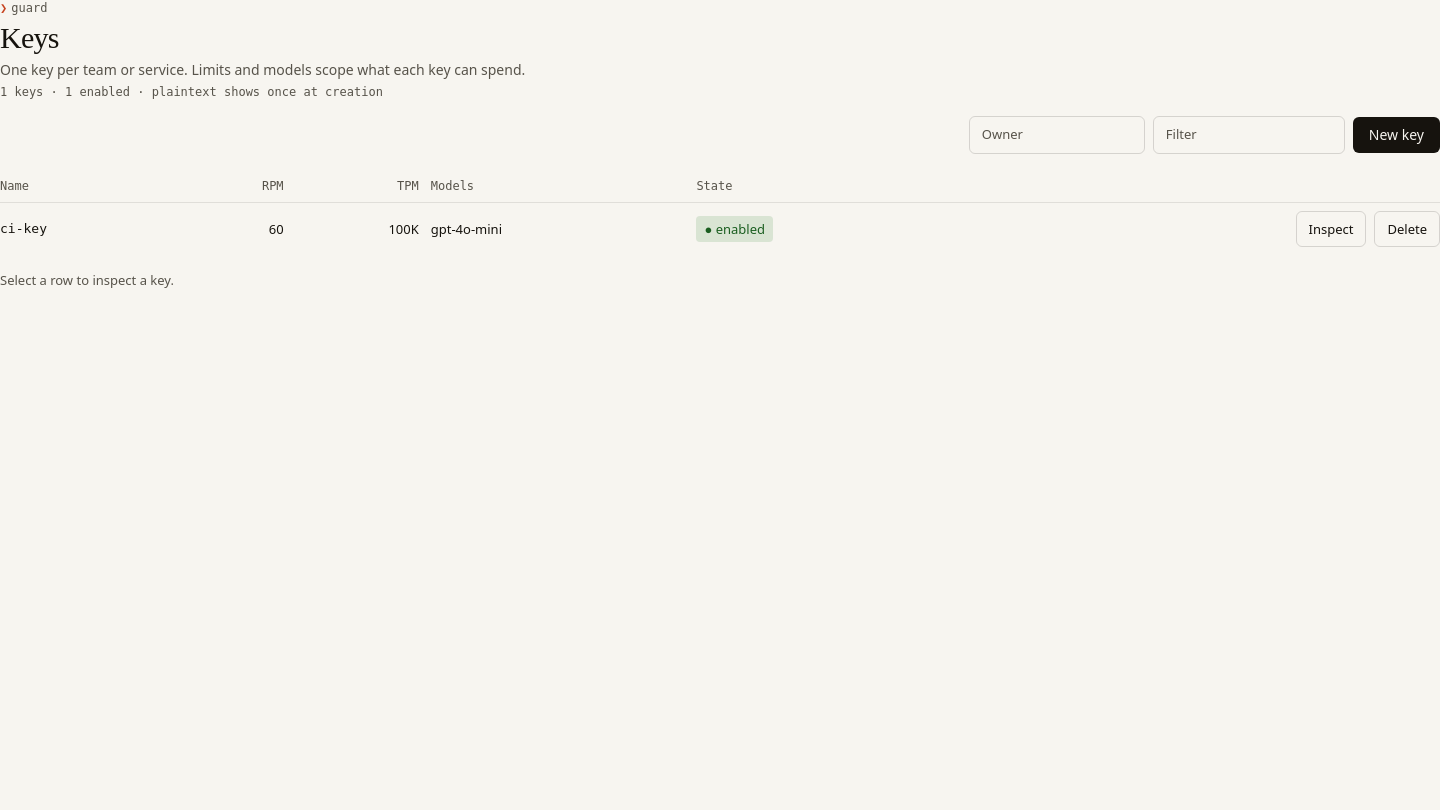
KeysPage › revokes terminally with no undo path
This screenshot has width=1440, height=810.
Click the button with aria-label "inspect key ci-key".
click(1331, 229)  # box [1296,210,1366,247]
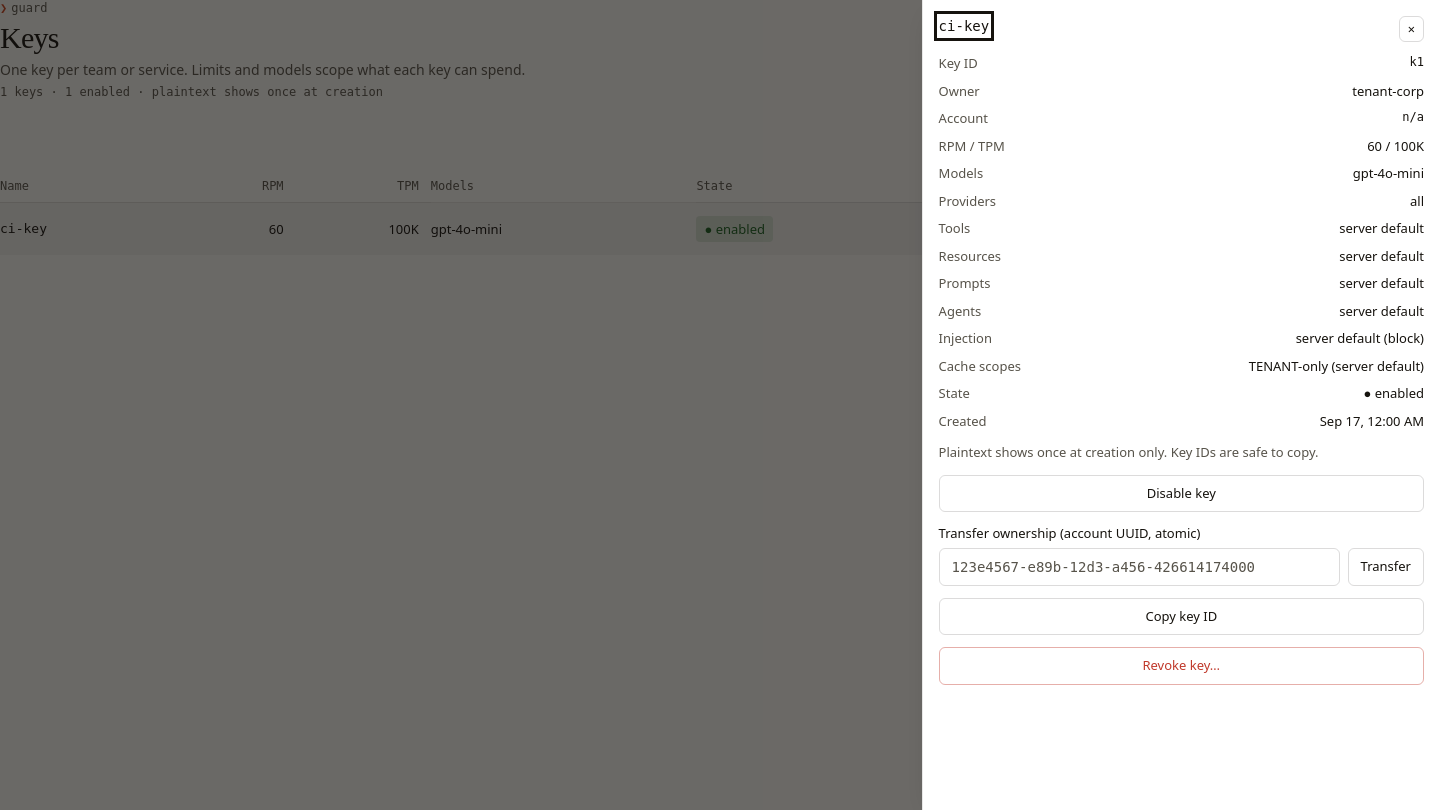
Click the button "Revoke key…".
click(1181, 666)  # box [939,647,1424,684]
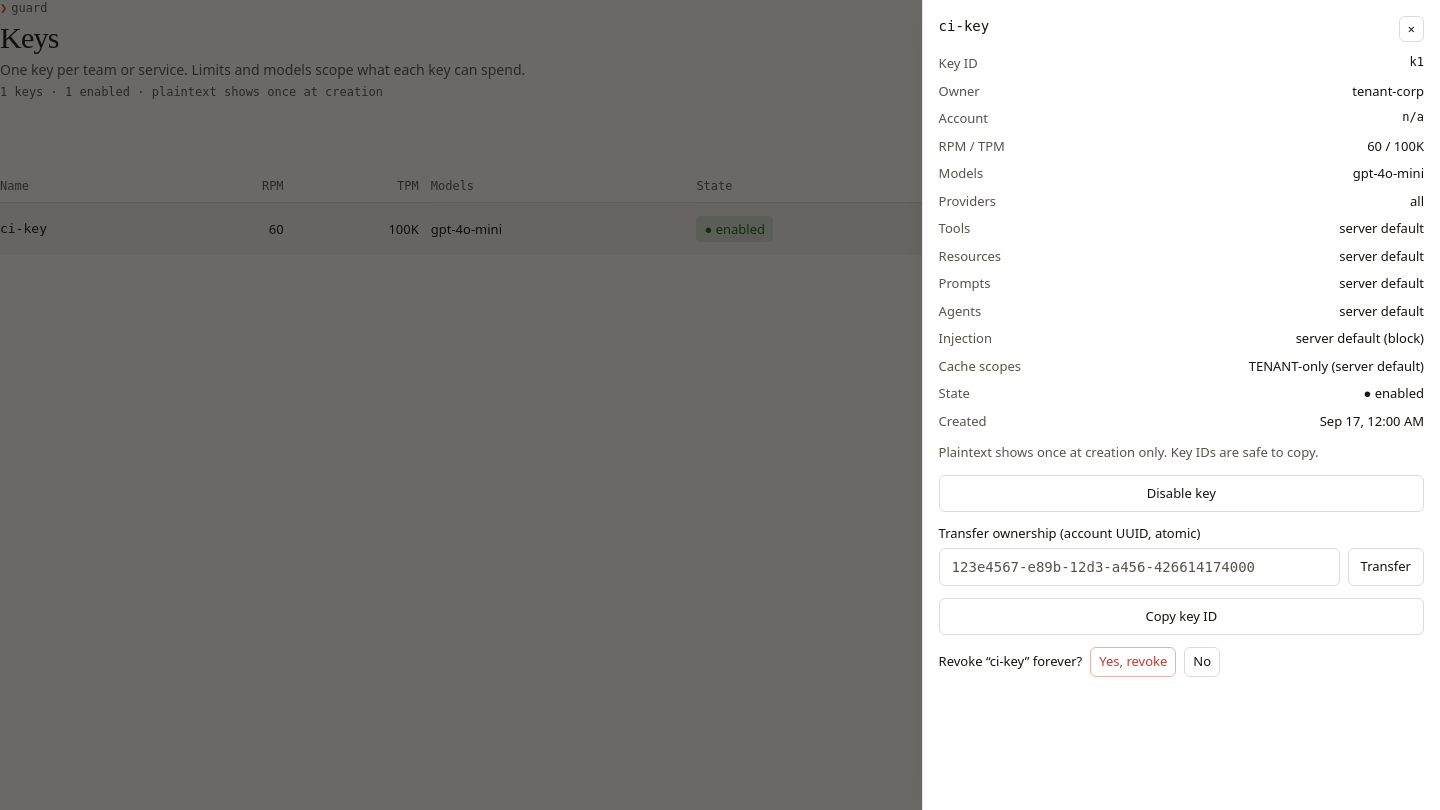
Click the button "Yes, revoke".
click(1133, 662)  # box [1090,647,1176,676]
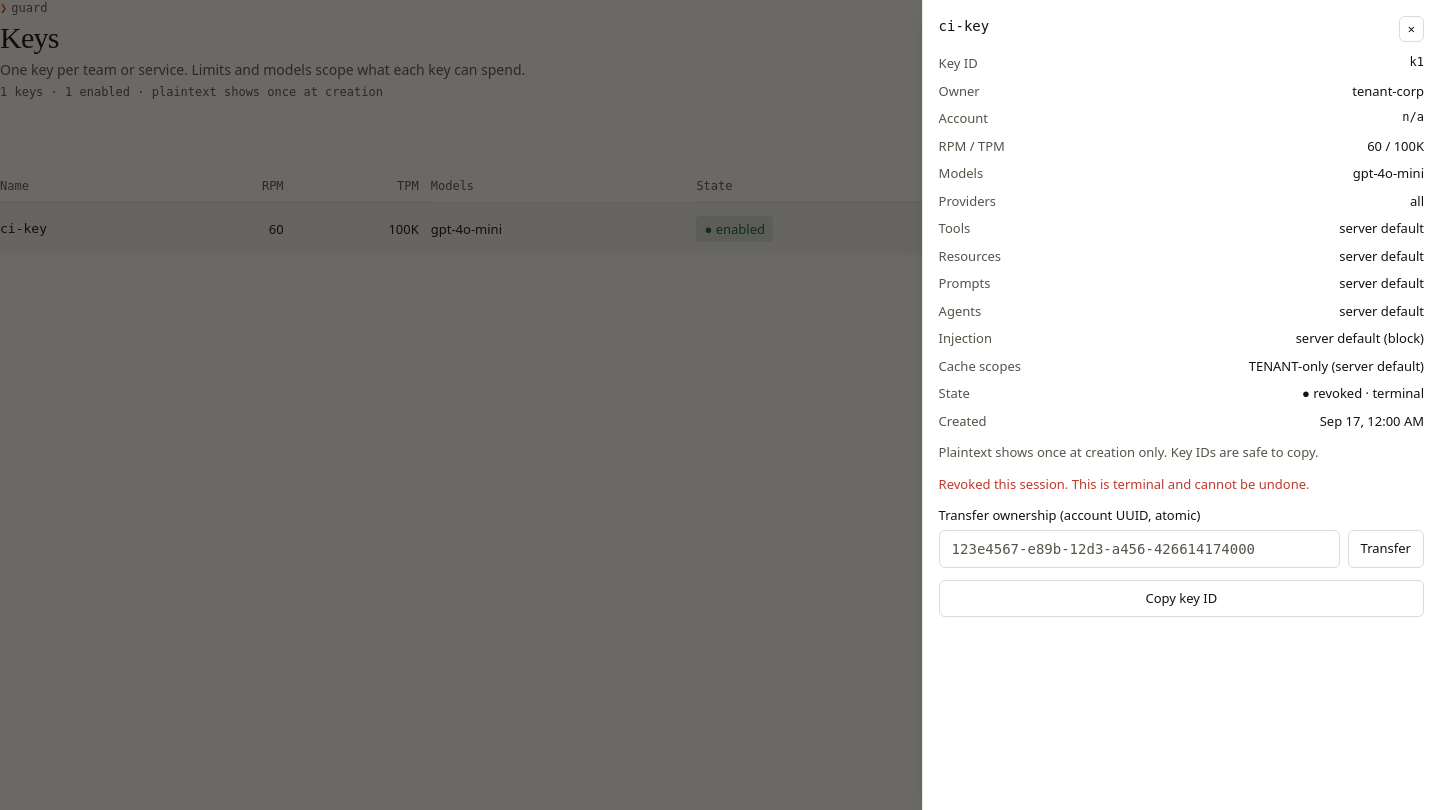
Expected: the text "Revoked this session. This is terminal and cannot be undone." is shown, [939,474,1310,492]
